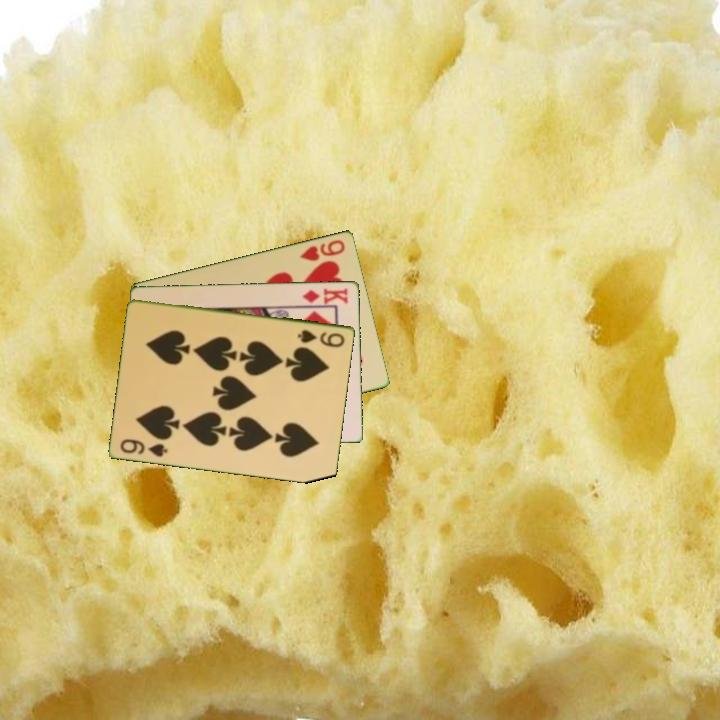9h: (297, 236, 348, 264)
9s: (117, 435, 171, 460), (294, 326, 348, 350)
Kd: (299, 284, 351, 307)
